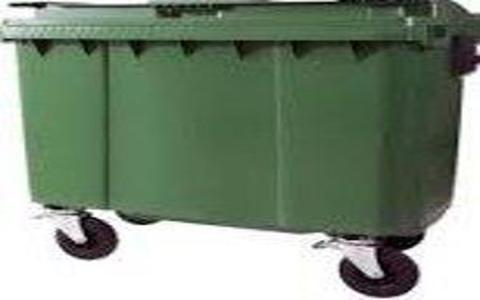Proper garbage: (1, 1, 477, 299)
